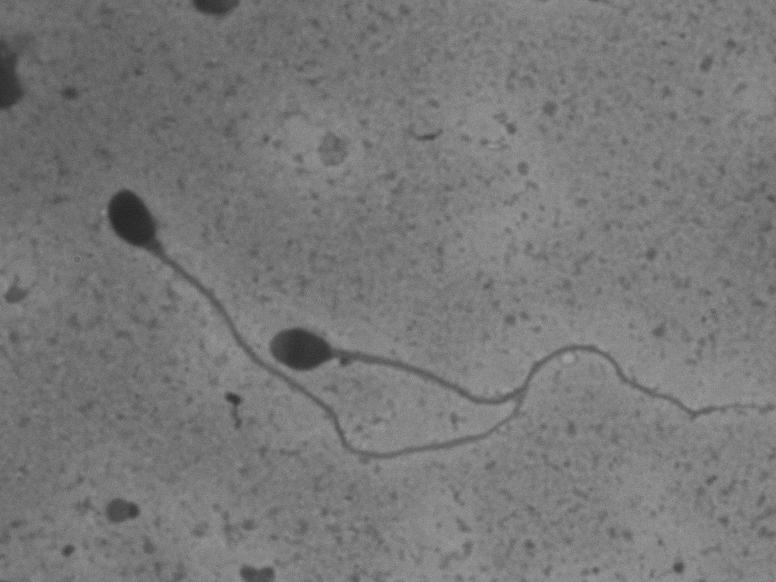Normal: (96, 171, 529, 471), (261, 308, 771, 432)
